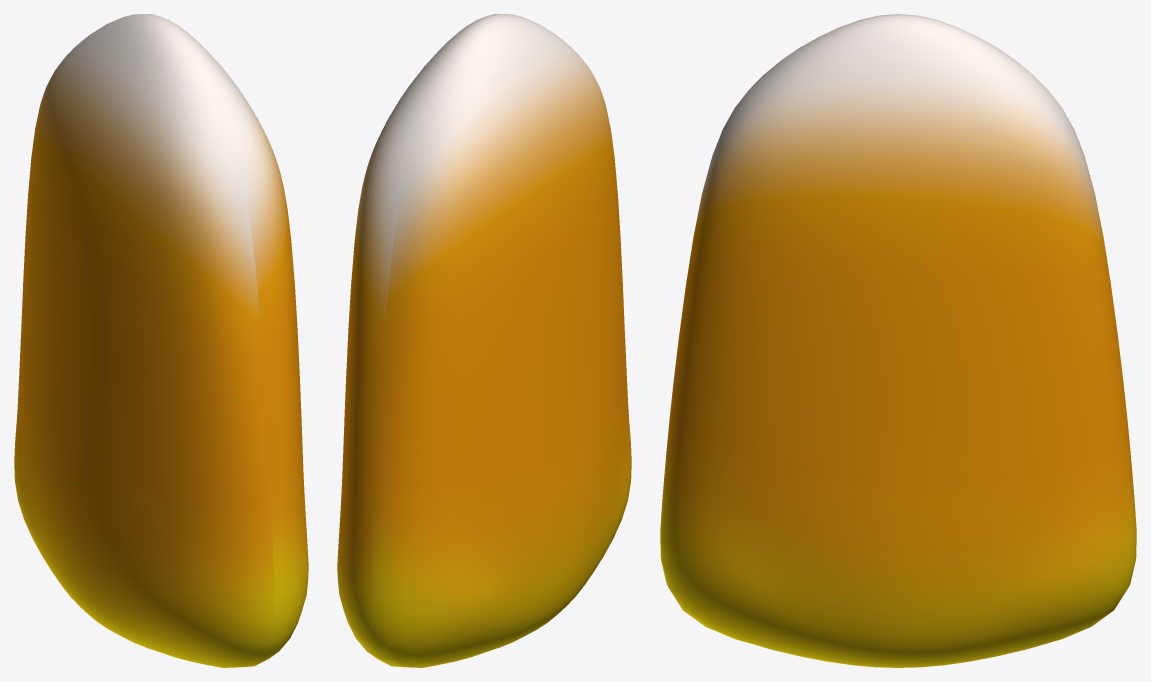
Rendered from candyCorn.fbx.
The picture shows the model from 3 angles, left to right: view 1: azimuth 30°, elevation 25°; view 2: azimuth 150°, elevation 25°; view 3: azimuth 270°, elevation 25°; orthographic projection. The views are drawn at different scales.
Visible parts, largest first — view 1: Cube; view 2: Cube; view 3: Cube.
Part boxes in pixels (x1,y1,x2,y2): Cube: (14,14,308,667); Cube: (337,14,631,667); Cube: (660,14,1136,667).
Bounding box in the file's own units: 67.49 × 216 × 146.
